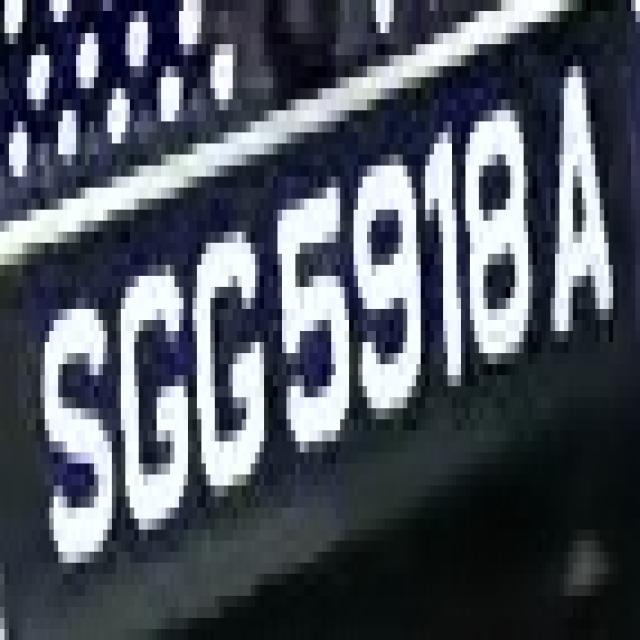1: (430, 100, 470, 430)
5: (269, 154, 349, 474)
8: (452, 66, 537, 408)
9: (340, 132, 430, 430)
A: (528, 33, 622, 364)
G: (94, 232, 192, 562), (184, 198, 268, 508)
S: (36, 276, 116, 574)
